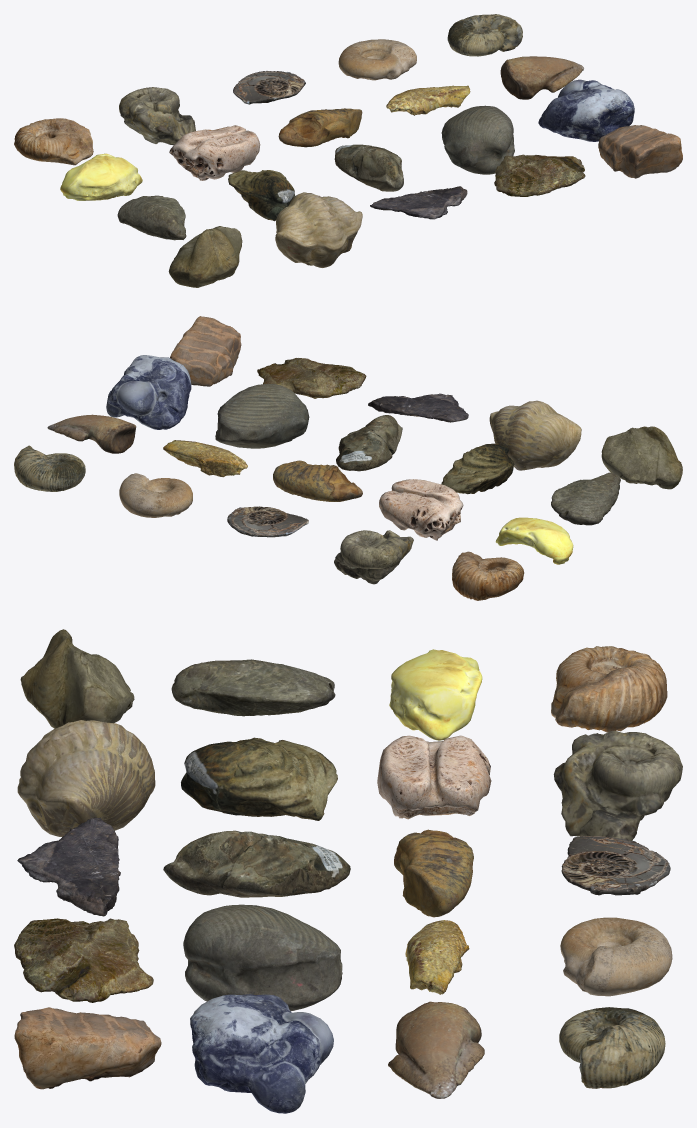
3 renders of one model, top to bottom at view 1: azimuth 30°, elevation 25°; view 2: azimuth 150°, elevation 25°; view 3: azimuth 270°, elevation 25°, orthographic. The views are drawn at different scales.
Parts seen in each view (by area): view 1: fossil05, fossil16, fossil10, fossil07, fossil17, fossil14, fossil19, fossil21, fossil18, fossil06, fossil15, fossil04 (+8 smaller); view 2: fossil10, fossil16, fossil05, fossil14, fossil07, fossil17, fossil21, fossil19, fossil18, fossil03, fossil04, fossil11 (+8 smaller); view 3: fossil10, fossil16, fossil05, fossil21, fossil12, fossil13, fossil17, fossil19, fossil18, fossil07, fossil11, fossil04 (+8 smaller).
Part boxes in pixels (box(x1,y1,x2,y2)): fossil05: box(275, 192, 362, 267); fossil16: box(538, 79, 634, 141); fossil10: box(441, 105, 514, 174); fossil07: box(169, 125, 260, 180); fossil17: box(598, 125, 682, 178); fossil14: box(168, 226, 242, 287); fossil19: box(494, 154, 585, 196); fossil21: box(119, 87, 195, 145); fossil18: box(14, 118, 93, 165); fossil06: box(60, 153, 142, 200); fossil15: box(500, 56, 583, 99); fossil04: box(338, 39, 416, 80); fossil10: box(215, 383, 309, 448); fossil16: box(106, 355, 191, 429); fossil05: box(489, 400, 581, 470); fossil14: box(601, 426, 682, 489); fossil07: box(379, 479, 463, 540); fossil17: box(170, 316, 241, 386); fossil21: box(334, 530, 413, 584); fossil19: box(257, 358, 366, 398); fossil18: box(452, 551, 524, 600); fossil03: box(273, 460, 362, 501); fossil04: box(119, 473, 192, 517); fossil11: box(551, 472, 620, 525); fossil10: box(183, 904, 342, 1011); fossil16: box(190, 994, 333, 1113); fossil05: box(17, 720, 155, 836); fossil21: box(553, 730, 682, 841); fossil12: box(181, 737, 337, 820); fossil13: box(163, 830, 350, 897); fossil17: box(14, 1007, 161, 1089); fossil19: box(14, 918, 153, 1002); fossil18: box(551, 646, 667, 732); fossil07: box(377, 735, 491, 819); fossil11: box(171, 659, 335, 716); fossil04: box(560, 917, 672, 996).
Bounding box in the file's own units: 618 × 73.91 × 407.
20 materials, 20 textured.
